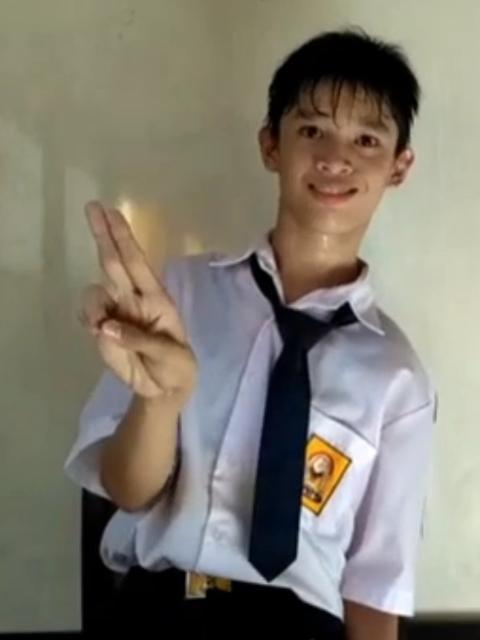U: (73, 190, 211, 402)
